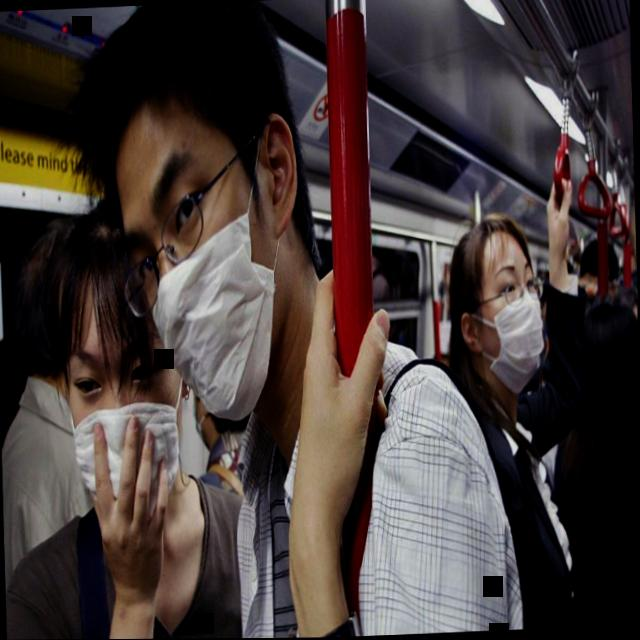Mask: (117, 92, 287, 433), (64, 302, 181, 515), (444, 218, 550, 401), (634, 308, 638, 371)
